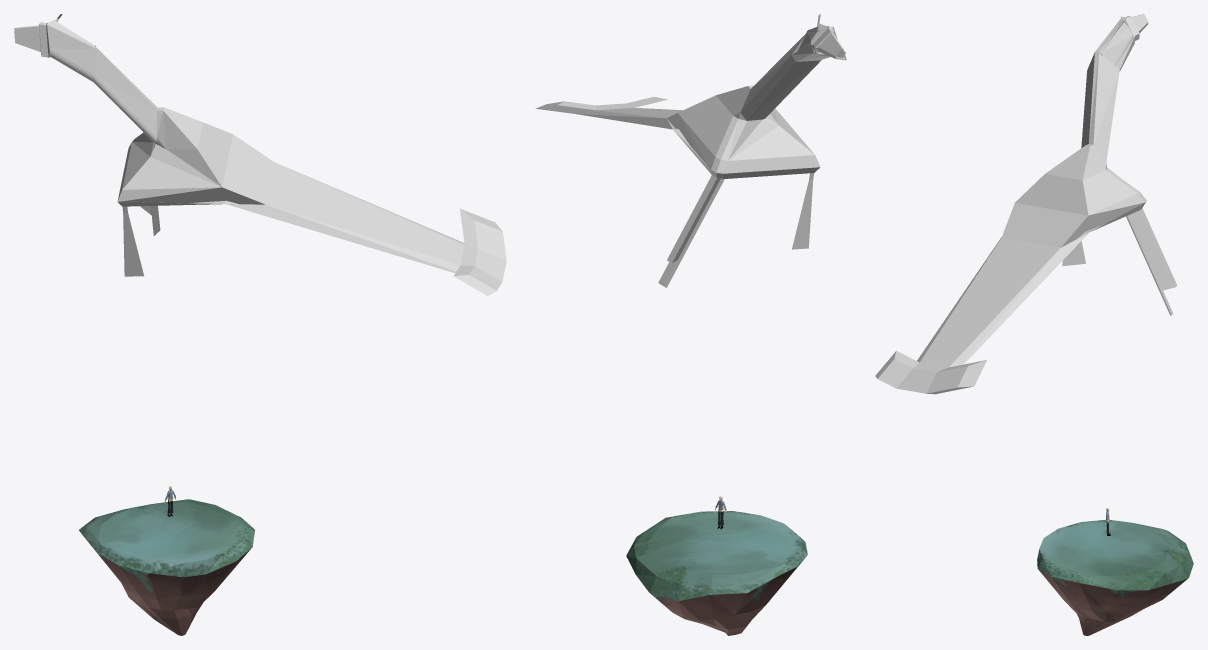
Rendered from island.dae.
3 renders of one model, left to right at view 1: azimuth 30°, elevation 25°; view 2: azimuth 150°, elevation 25°; view 3: azimuth 270°, elevation 25°, orthographic. The views are drawn at different scales.
Visible parts, largest first — view 1: Kambing Laut, Island; view 2: Kambing Laut, Island; view 3: Kambing Laut, Island.
Part boxes in pixels (x1,y1,x2,y2): Kambing Laut: (14, 14, 506, 295); Island: (79, 499, 254, 635); Kambing Laut: (535, 14, 846, 287); Island: (626, 511, 807, 635); Kambing Laut: (875, 14, 1176, 394); Island: (1037, 519, 1193, 635).
Bounding box in the file's own units: 57.69 × 44.99 × 89.56.
Materials: 6 (1 with a texture image).
